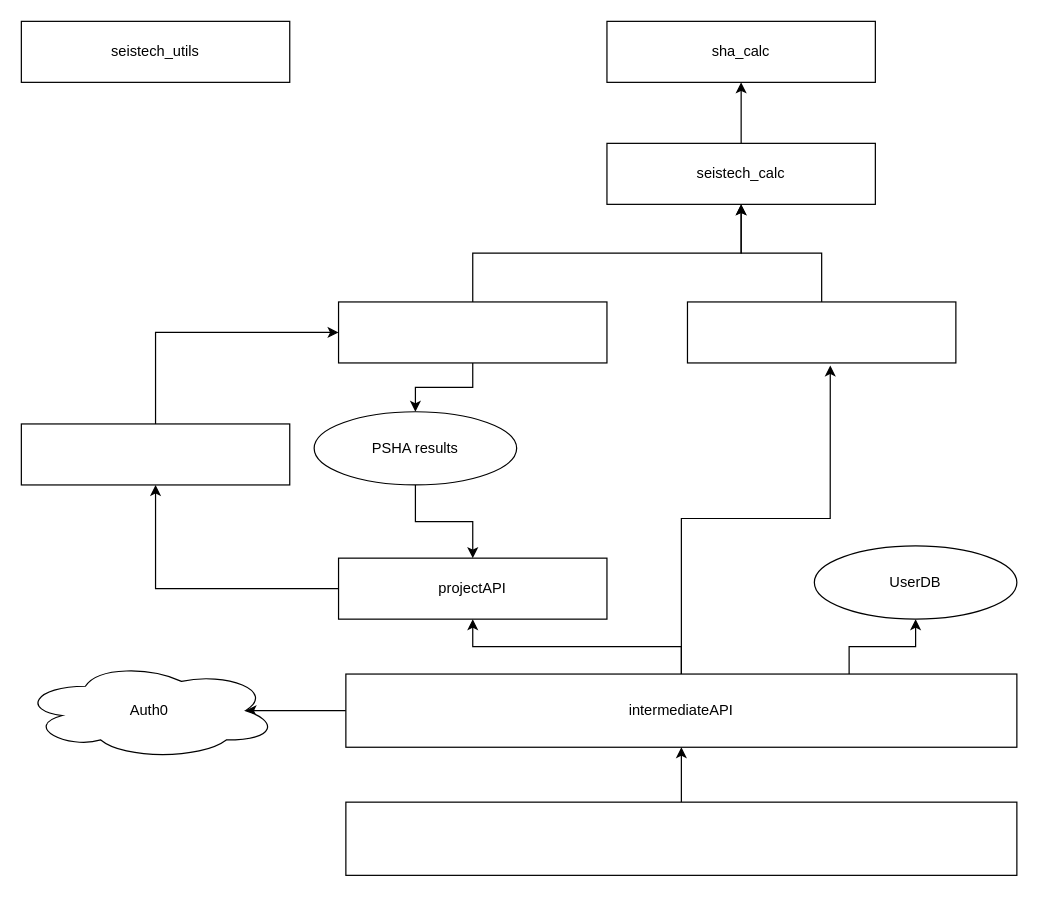
Some shapes in this 1038 by 897 pixel diagram are drawn without their labels. The centre of each missing label's shape, as x and y in pixels:
coreAPI: the point at 821,332
frontend: the point at 681,838
project_gen: the point at 472,332
project_gen_service: the point at 155,454
